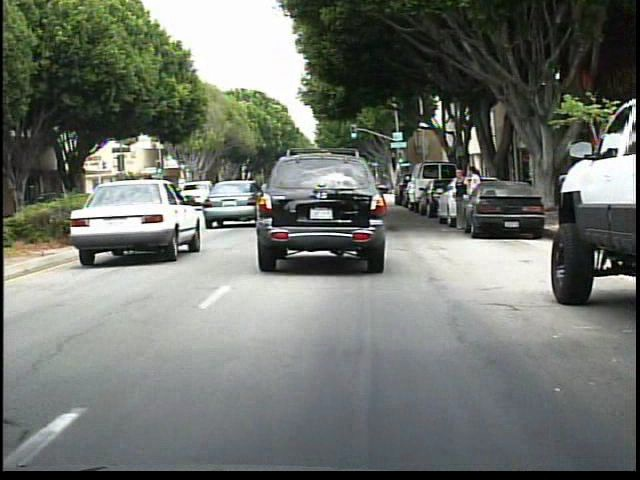person: (451, 167, 471, 236), (465, 164, 485, 229)
